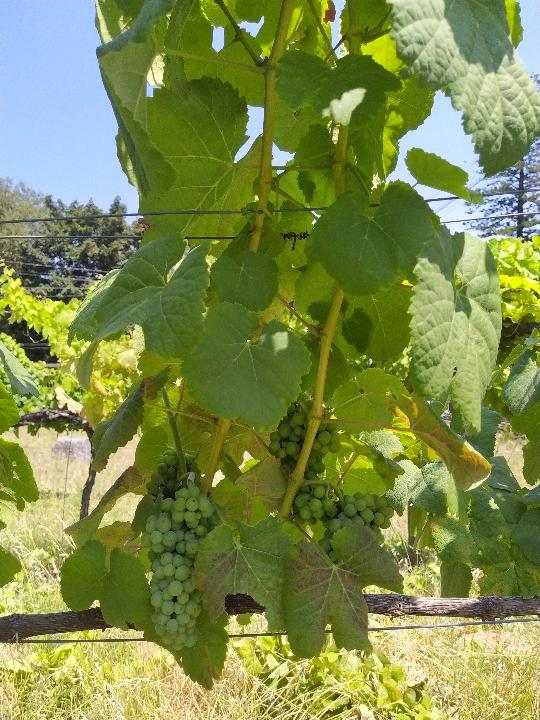grape: (143, 481, 216, 653), (267, 407, 343, 524), (314, 488, 399, 562)
